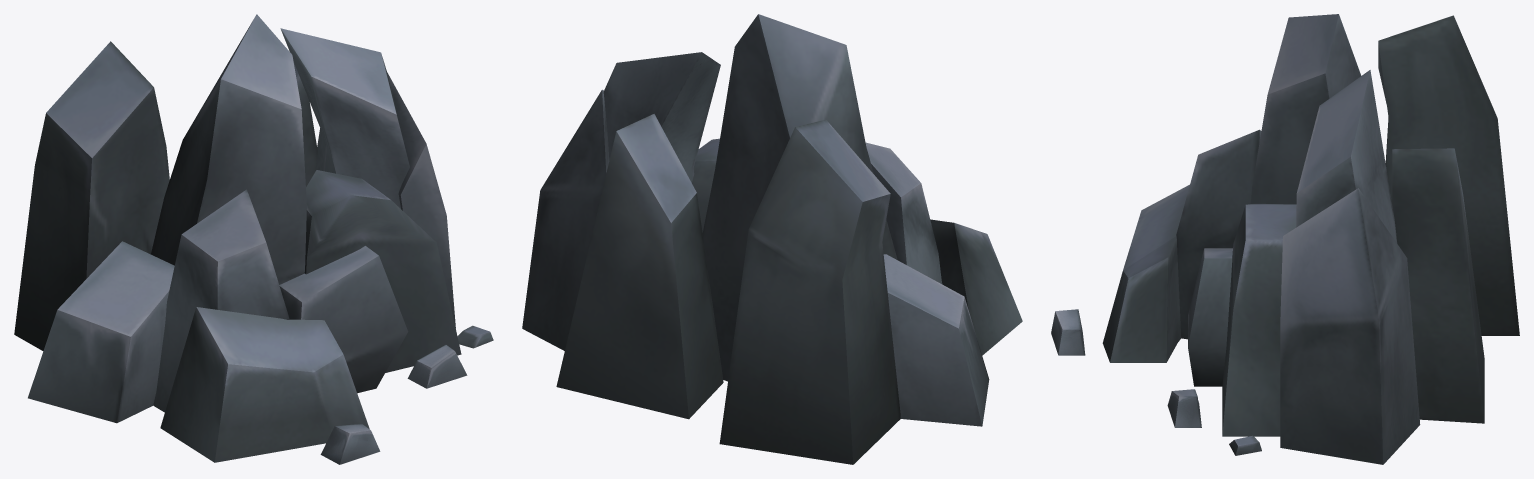
Rendered from Mine-able_Stone.fbx.
3 views of the same model, side by side, from view 1: azimuth 30°, elevation 25°; view 2: azimuth 150°, elevation 25°; view 3: azimuth 270°, elevation 25° (orthographic). The views are drawn at different scales.
Parts seen in each view (by area): view 1: Mine_able_Stone; view 2: Mine_able_Stone; view 3: Mine_able_Stone.
Part boxes in pixels (x1,y1,x2,y2): Mine_able_Stone: (14, 14, 493, 464); Mine_able_Stone: (522, 14, 1022, 464); Mine_able_Stone: (1051, 14, 1519, 464).
Size of the model in its own units: 11.94 by 8.98 by 10.98.
